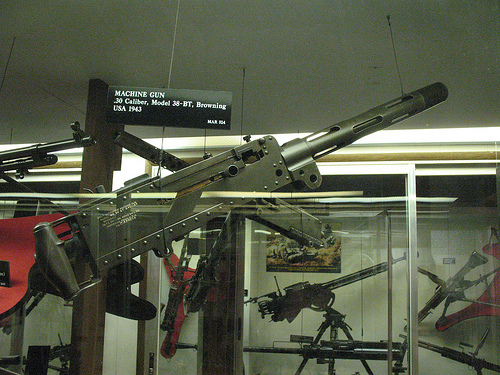rifle: (2, 78, 450, 320)
